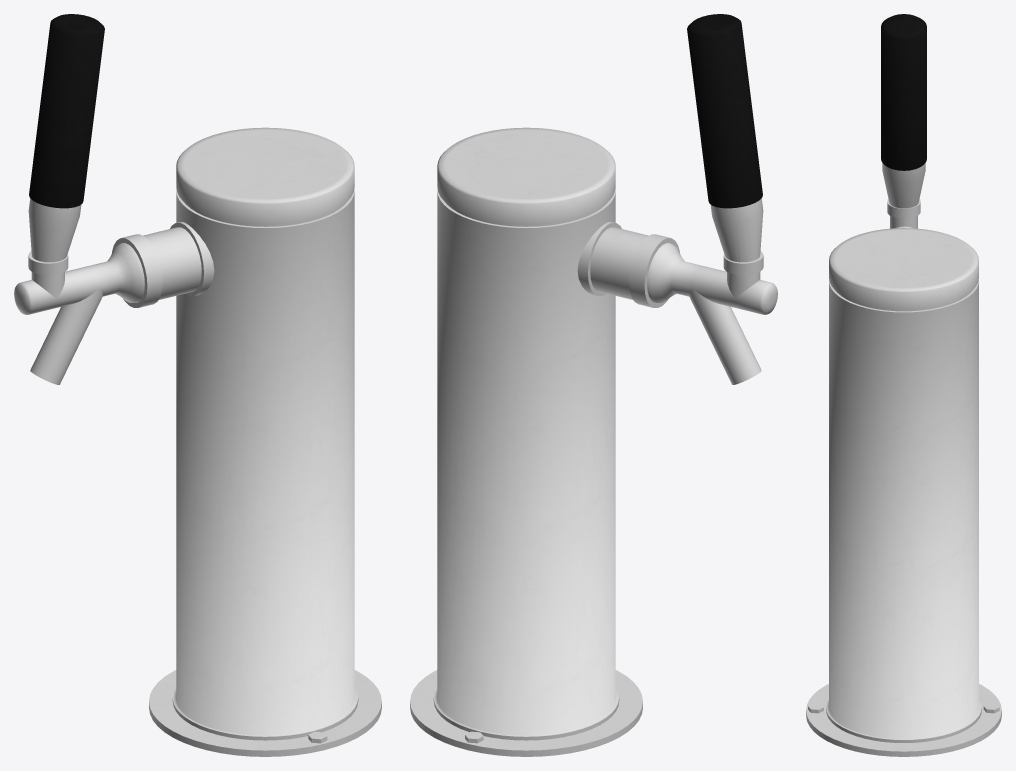
The picture shows the model from 3 angles, left to right: view 1: azimuth 30°, elevation 25°; view 2: azimuth 150°, elevation 25°; view 3: azimuth 270°, elevation 25°; orthographic projection. The views are drawn at different scales.
Parts seen in each view (by area): view 1: BeerTap; view 2: BeerTap; view 3: BeerTap.
Part boxes in pixels (x1,y1,x2,y2): BeerTap: (14,14,381,756); BeerTap: (410,14,777,756); BeerTap: (806,14,1001,756).
Size of the model in its own units: 0.1931 by 0.3898 by 0.1122.
1 material, 1 textured.
